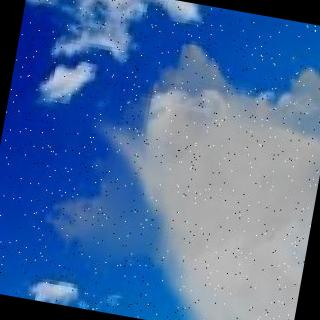smoke: (99, 42, 320, 320)
